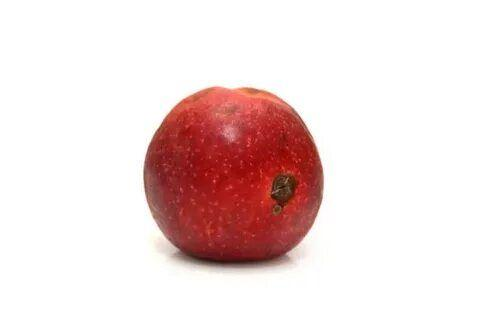Apple: (145, 86, 322, 260)
